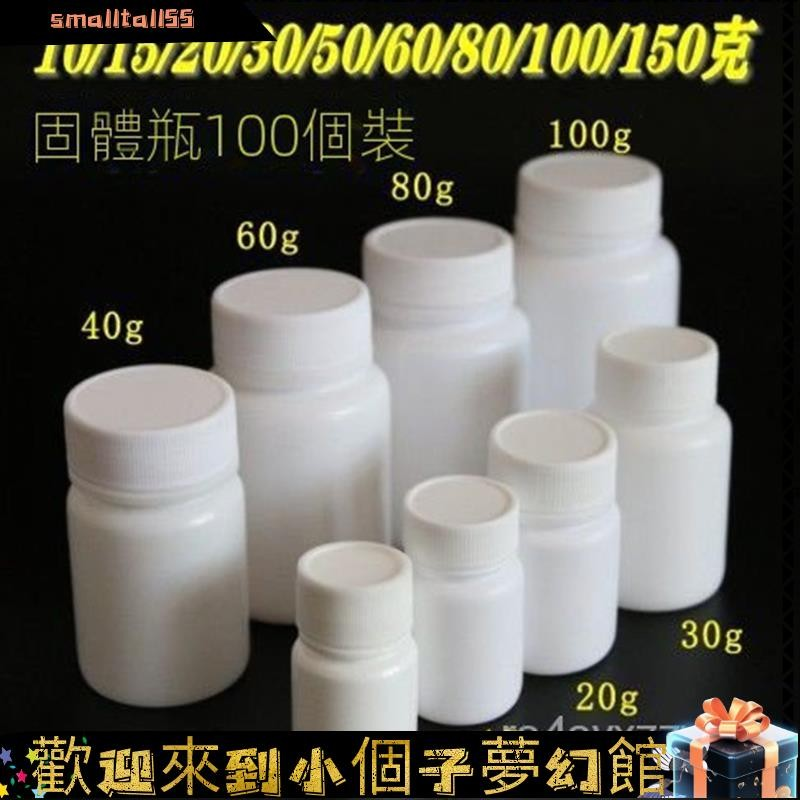medicinejar: (202, 265, 403, 619), (59, 367, 266, 700), (514, 148, 682, 533), (358, 209, 534, 536), (591, 324, 736, 607), (488, 416, 626, 675), (402, 468, 535, 723), (292, 551, 424, 736)
